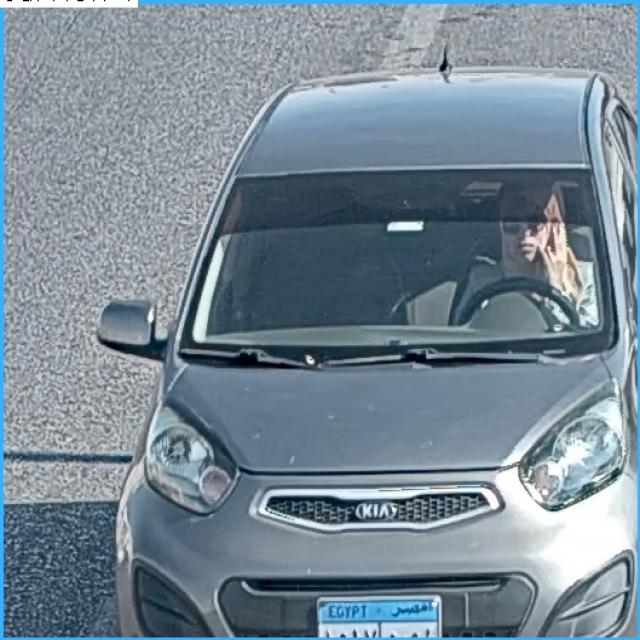windshield: (192, 175, 614, 348)
